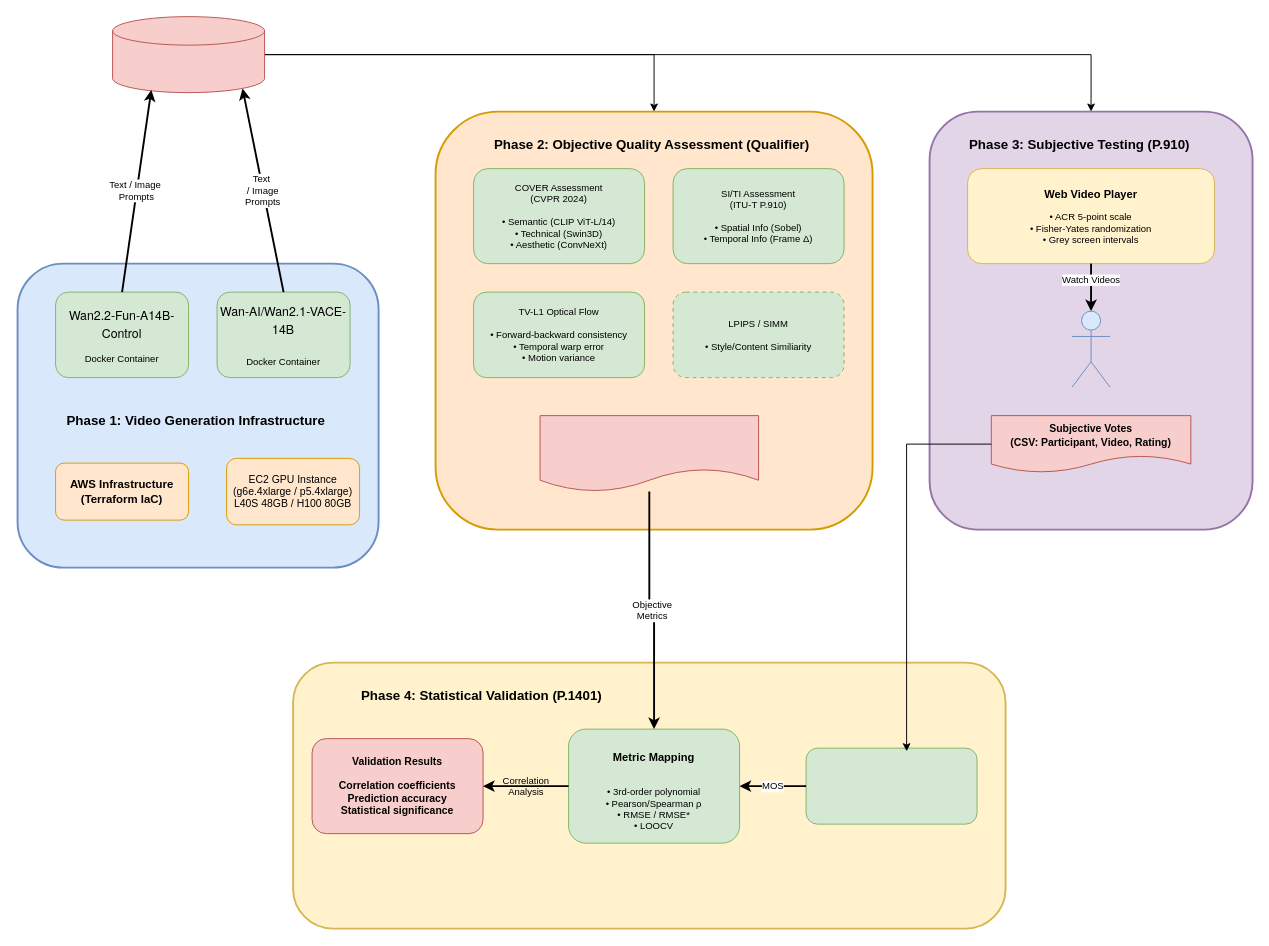
The diagram is 1269 pixels wide and 946 high, and some of its shapes have lost their labels. Here are the shapes that lost their labels. From the top down, the centre of each, then its label:
At (x=188, y=54): "Stylized Videos (MP4, H.264, 960x544p)".
At (x=1090, y=348): "Human Participants".
At (x=649, y=453): "Objective Metrics Results (CSV: COVER, SI/TI, TV-L1 scores, LPIPS / SIMM)".
At (x=891, y=785): "MOS Computation - Mean Opinion Score + CI95".
